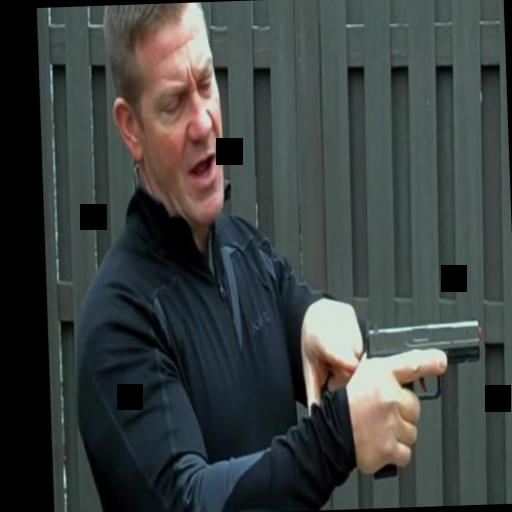Handgun: (360, 310, 488, 475)
